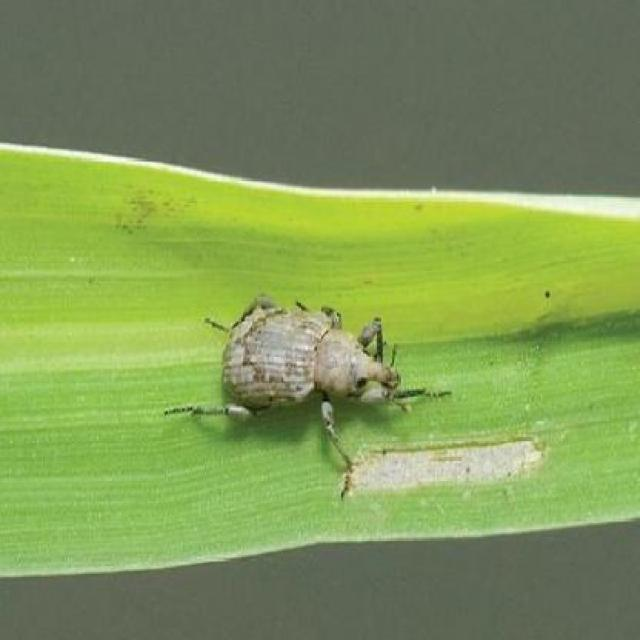rice-bug: (181, 293, 408, 472)
